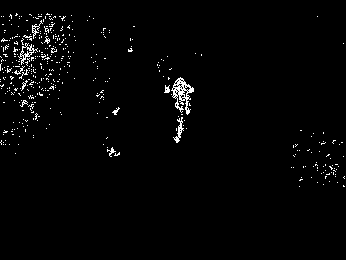person: (167, 76, 194, 145)
